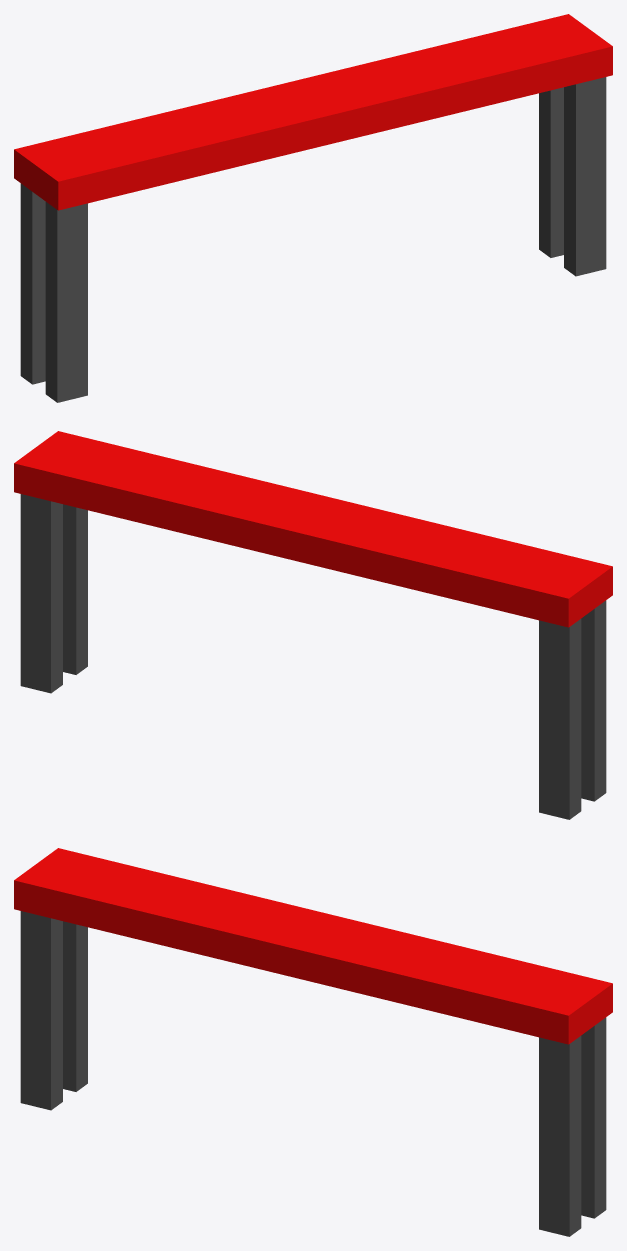
File: Weight_Holder_1.fbx
3 views of the same model, one above another, from view 1: azimuth 30°, elevation 25°; view 2: azimuth 150°, elevation 25°; view 3: azimuth 330°, elevation 25° (orthographic).
Visible parts, largest first — view 1: Weight Holder; view 2: Weight Holder; view 3: Weight Holder.
Boxes of the visible parts, bbox=[...] form: Weight Holder: bbox=[14, 14, 612, 402]; Weight Holder: bbox=[14, 431, 612, 819]; Weight Holder: bbox=[14, 848, 612, 1236].
Size of the model in its own units: 278 by 107 by 38.34.
